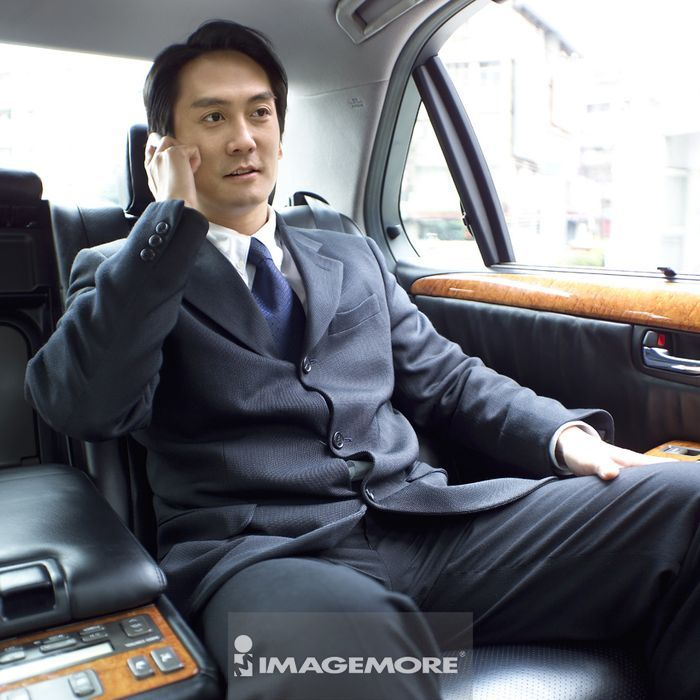talk: (137, 82, 281, 218)
